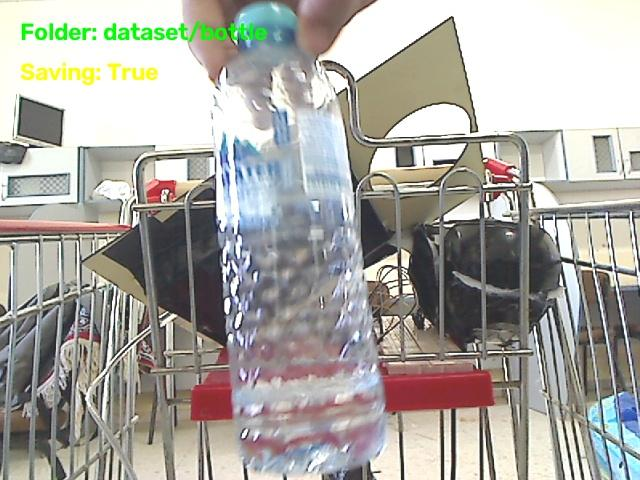Bottle: (215, 3, 385, 473)
